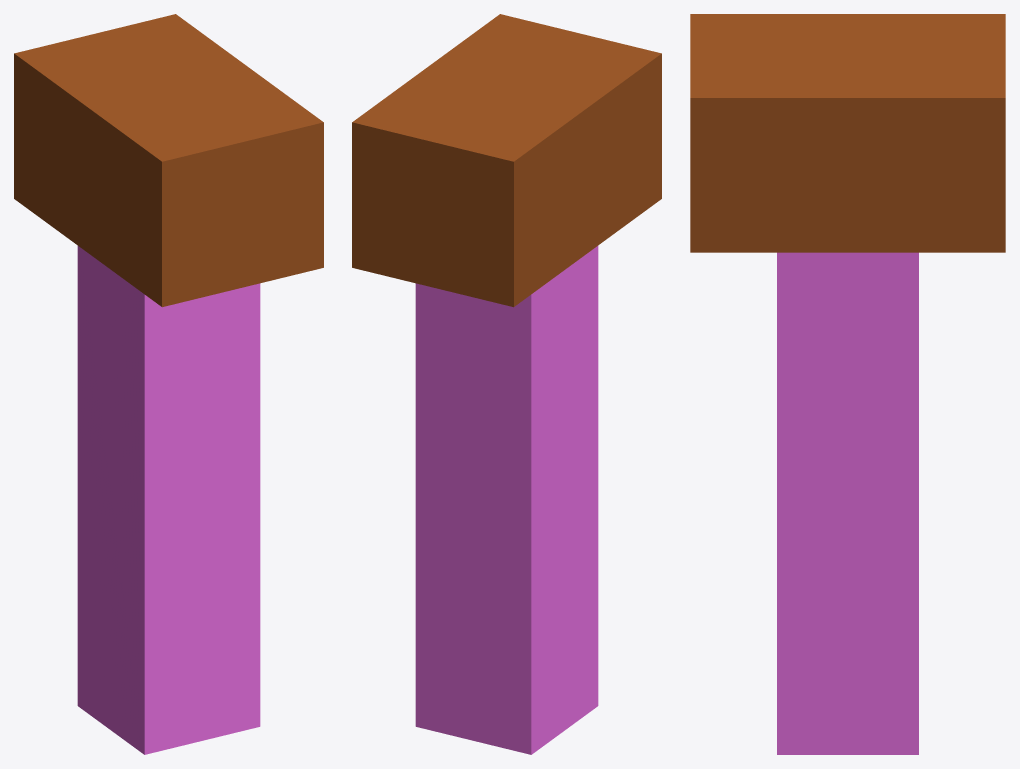
The model's file is Hammer.fbx.
3 views of the same model, side by side, from view 1: azimuth 30°, elevation 25°; view 2: azimuth 150°, elevation 25°; view 3: azimuth 270°, elevation 25° (orthographic). The views are drawn at different scales.
Parts seen in each view (by area): view 1: Cube; view 2: Cube; view 3: Cube.
Part boxes in pixels (<box>): Cube: <box>14,14,323,754</box>; Cube: <box>352,14,661,754</box>; Cube: <box>690,14,1005,754</box>.
Size of the model in its own units: 98.55 by 366 by 156.
